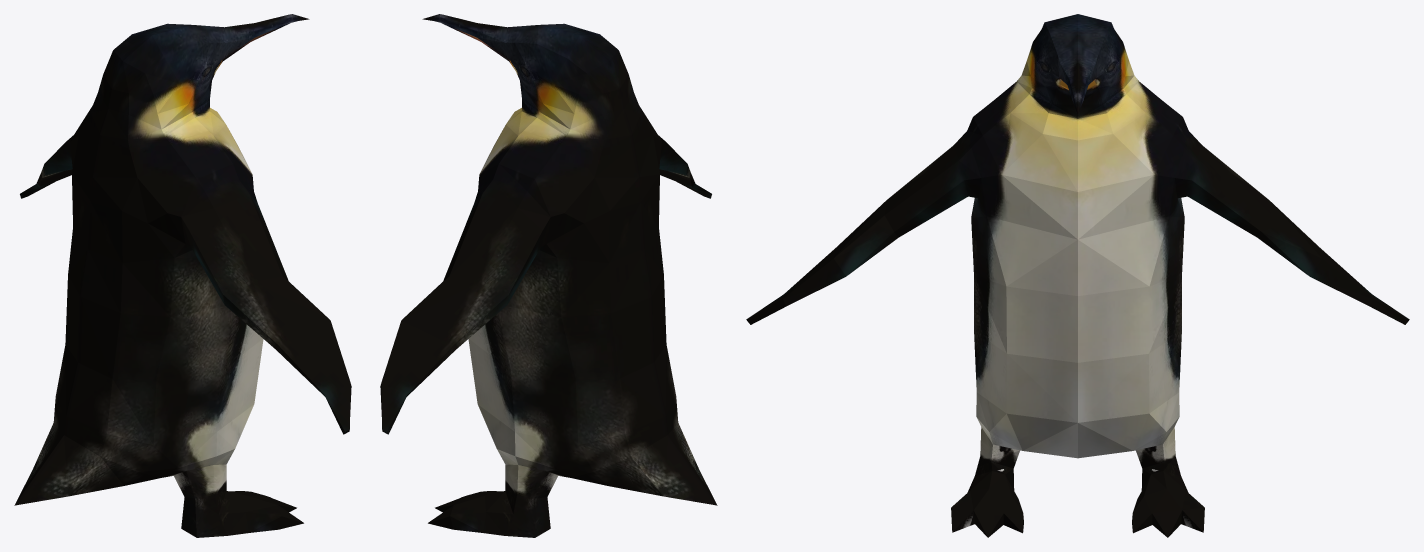
File: penguin.glb
3 renders of one model, left to right at view 1: azimuth 30°, elevation 25°; view 2: azimuth 150°, elevation 25°; view 3: azimuth 270°, elevation 25°, orthographic.
Parts seen in each view (by area): view 1: penguin; view 2: penguin; view 3: penguin.
Boxes of the visible parts, bbox=[...] form: penguin: bbox=[14, 14, 351, 537]; penguin: bbox=[380, 14, 717, 537]; penguin: bbox=[746, 14, 1409, 537].
Bounding box in the file's own units: 1 × 1.5 × 1.91.
Materials: 1 (1 with a texture image).
